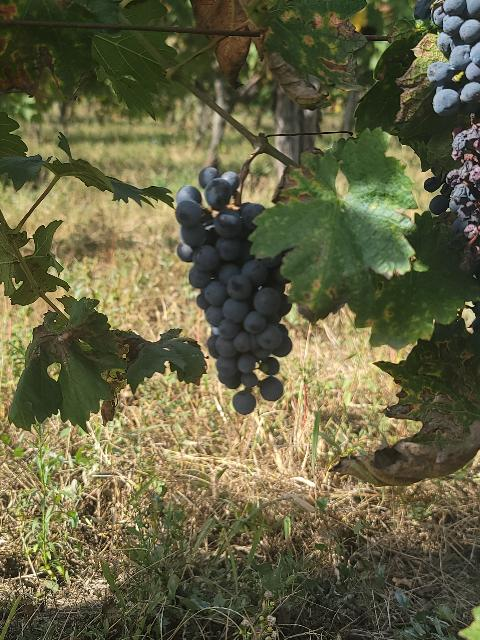grapes: (175, 168, 292, 414), (414, 0, 480, 274)
